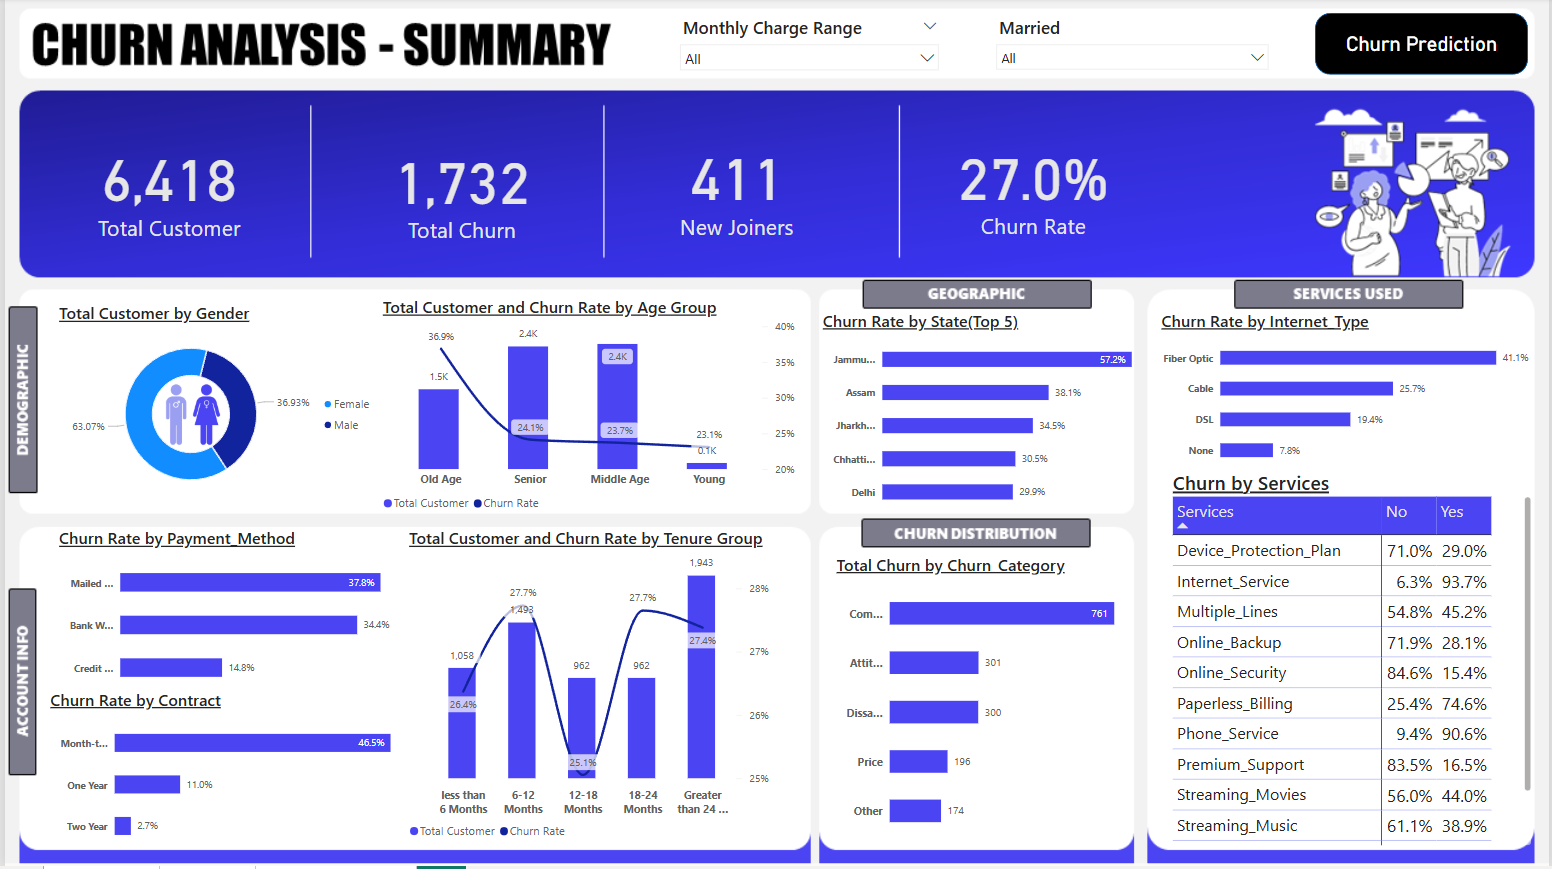

What the dashboard file says about the page in this screenshot:
{"tool":"powerbi","page":{"name":"Summary","canvas":[1920,1080],"ordinal":0},"visuals":[{"type":"card","fields":{"Values":["Tbl_Measures.Total Customer"]},"box":[22,104.4,364.6,262],"z":0},{"type":"card","fields":{"Values":["Tbl_Measures.Total Churn"]},"box":[386.6,108.1,362.7,258.3],"z":1000},{"type":"card","fields":{"Values":["Tbl_Measures.new joiners"]},"box":[688.9,95.3,443.4,278.5],"z":2000},{"type":"card","fields":{"Values":["Tbl_Measures.Churn Rate"]},"box":[1112.1,104.4,335.3,258.3],"z":3000},{"type":"image","box":[181.8,467.5,103.9,97.4],"z":4000},{"type":"donutChart","fields":{"Category":["prod_Churn.Gender"],"Y":["Tbl_Measures.Total Customer"]},"box":[50.9,363.1,427.3,281.2],"z":5000},{"type":"lineStackedColumnComboChart","fields":{"Category":["Mapping_groupAge.Age Group"],"Y":["Tbl_Measures.Total Customer"],"Y2":["Tbl_Measures.Churn Rate"]},"box":[454.3,355.7,547.1,302.9],"z":6000},{"type":"clusteredBarChart","fields":{"Category":["prod_Churn.Payment_Method"],"Y":["Tbl_Measures.Churn Rate"]},"box":[50.9,644.3,469.4,241.3],"z":7000},{"type":"clusteredBarChart","fields":{"Category":["prod_Churn.Contract"],"Y":["Tbl_Measures.Churn Rate"]},"box":[39.9,843.5,493.7,236.9],"z":8000},{"type":"lineStackedColumnComboChart","fields":{"Category":["Mapping_groupTenure.Tenure Group"],"Y":["Tbl_Measures.Total Customer"],"Y2":["Tbl_Measures.Churn Rate"]},"box":[487.1,644.3,482.7,422.9],"z":9000},{"type":"clusteredBarChart","title":"Churn Rate by State(Top 5)","fields":{"Category":["prod_Churn.State"],"Y":["Tbl_Measures.Churn Rate"]},"box":[1001.2,373.8,453.8,285],"z":10000},{"type":"clusteredBarChart","fields":{"Category":["prod_Churn.Churn_Category"],"Y":["Tbl_Measures.Total Churn"]},"box":[1017.5,676,404.5,391.9],"z":11000},{"type":"clusteredBarChart","fields":{"Category":["prod_Churn.Internet_Type"],"Y":["Tbl_Measures.Churn Rate"]},"box":[1422.5,373.8,491.2,231.2],"z":12000},{"type":"slicer","fields":{"Values":["prod_Churn.Monthly Charge Status"]},"box":[835.4,22,331.6,111.8],"z":13000},{"type":"slicer","fields":{"Values":["prod_Churn.Married"]},"box":[1228.3,21.7,348.3,83.3],"z":14000},{"type":"pivotTable","fields":{"Rows":["prod_Services.Services"],"Values":["prod_Churn.churn percentage row"]},"box":[1955,167.5,466.2,258.8],"z":15000},{"type":"pivotTable","title":"Churn by Services","fields":{"Columns":["prod_Services.Status"],"Rows":["prod_Services.Services"],"Values":["prod_Churn.churn percentage row"]},"box":[1435.6,571.6,477.8,497.5],"z":16000},{"type":"shape","box":[1628.3,18.3,265,76.7],"z":16001}]}

Visuals, with their boxes in screenshot pixels (x1, y1, x2, y2), scaled from the page's 1920x1080 canvas onto the 1552x869 screenshot:
card - Tbl_Measures.Total Customer: crop(18, 84, 313, 295)
card - Tbl_Measures.Total Churn: crop(313, 87, 606, 295)
card - Tbl_Measures.new joiners: crop(557, 77, 915, 301)
card - Tbl_Measures.Churn Rate: crop(899, 84, 1170, 292)
image: crop(147, 376, 231, 455)
donutChart - prod_Churn.Gender x Tbl_Measures.Total Customer: crop(41, 292, 387, 518)
lineStackedColumnComboChart - Mapping_groupAge.Age Group x Tbl_Measures.Total Customer: crop(367, 286, 809, 530)
clusteredBarChart - prod_Churn.Payment_Method x Tbl_Measures.Churn Rate: crop(41, 518, 421, 713)
clusteredBarChart - prod_Churn.Contract x Tbl_Measures.Churn Rate: crop(32, 679, 431, 868)
lineStackedColumnComboChart - Mapping_groupTenure.Tenure Group x Tbl_Measures.Total Customer: crop(394, 518, 784, 859)
"Churn Rate by State(Top 5)" clusteredBarChart: crop(809, 301, 1176, 530)
clusteredBarChart - prod_Churn.Churn_Category x Tbl_Measures.Total Churn: crop(822, 544, 1149, 859)
clusteredBarChart - prod_Churn.Internet_Type x Tbl_Measures.Churn Rate: crop(1150, 301, 1547, 487)
slicer - prod_Churn.Monthly Charge Status: crop(675, 18, 943, 108)
slicer - prod_Churn.Married: crop(993, 17, 1274, 84)
"Churn by Services" pivotTable: crop(1160, 460, 1547, 860)
shape: crop(1316, 15, 1530, 76)
